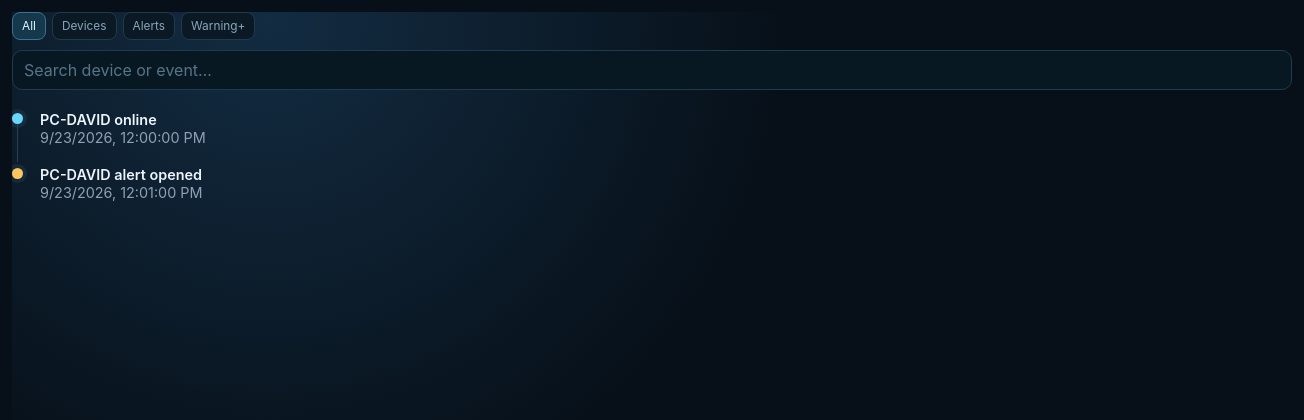
it: EventTimeline › filters alert events without losing the persisted timeline state
Expected: the text "PC-DAVID online" is shown, [40,111,157,128]
Expected: the text "PC-DAVID alert opened" is shown, [40,166,202,183]
Step 1. Click the button "Alerts" → x=149, y=26, box [122,12,175,40]
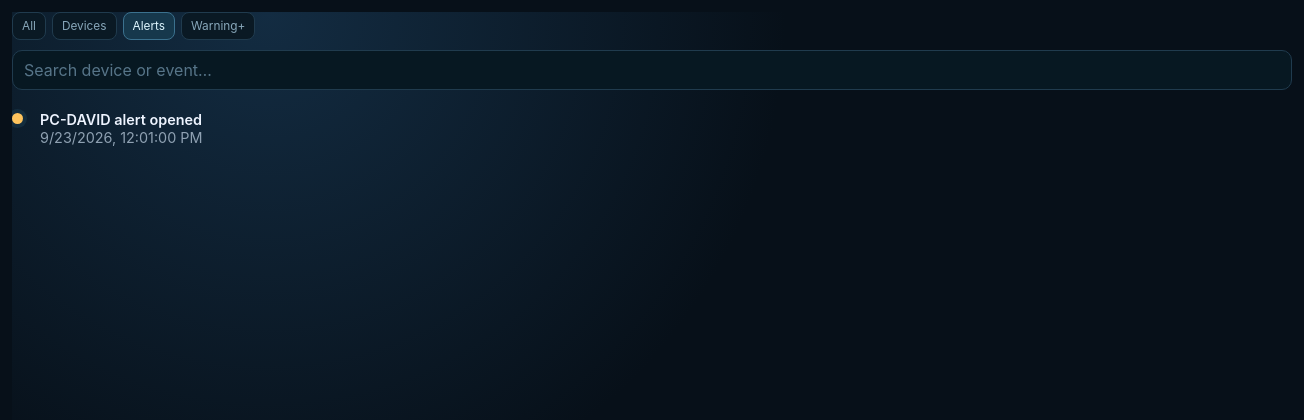
Expected: the text "PC-DAVID alert opened" is shown, [40,111,202,128]
Now the text "PC-DAVID online" is gone
